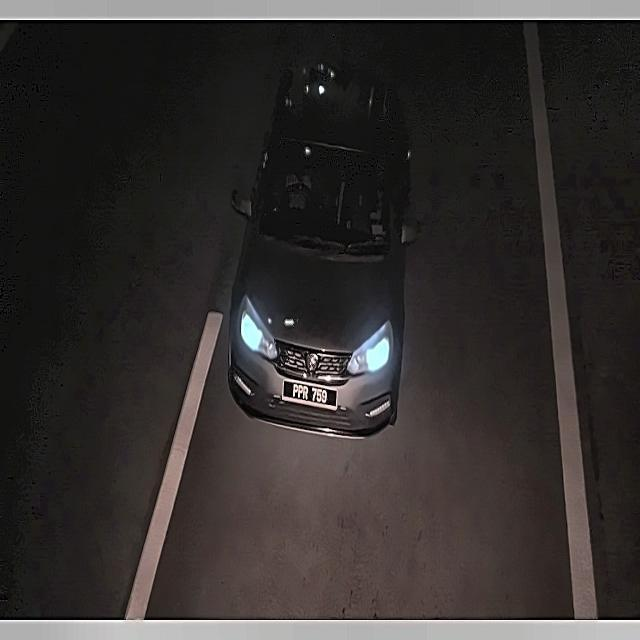car: (281, 371, 341, 421)
